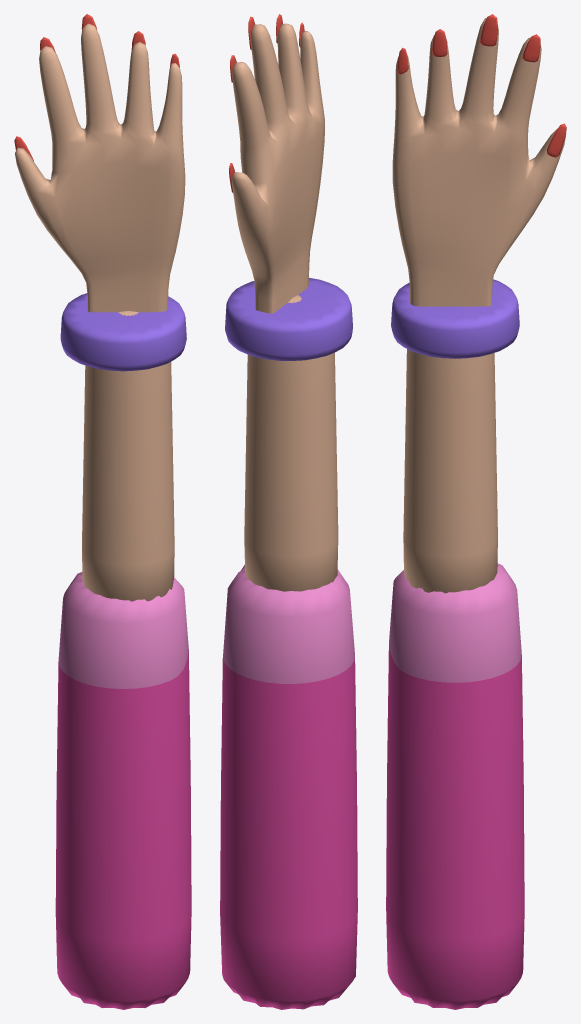
The model's file is hand2_mirror (1).fbx.
The picture shows the model from 3 angles, left to right: view 1: azimuth 90°, elevation 25°; view 2: azimuth 150°, elevation 25°; view 3: azimuth 270°, elevation 25°; orthographic projection.
Parts seen in each view (by area): view 1: Cube.011; view 2: Cube.011; view 3: Cube.011.
Boxes of the visible parts, <box> form: Cube.011: <box>14,14,191,1009</box>; Cube.011: <box>220,14,357,1009</box>; Cube.011: <box>386,14,566,1009</box>.
Size of the model in its own units: 209 by 1637 by 272.
